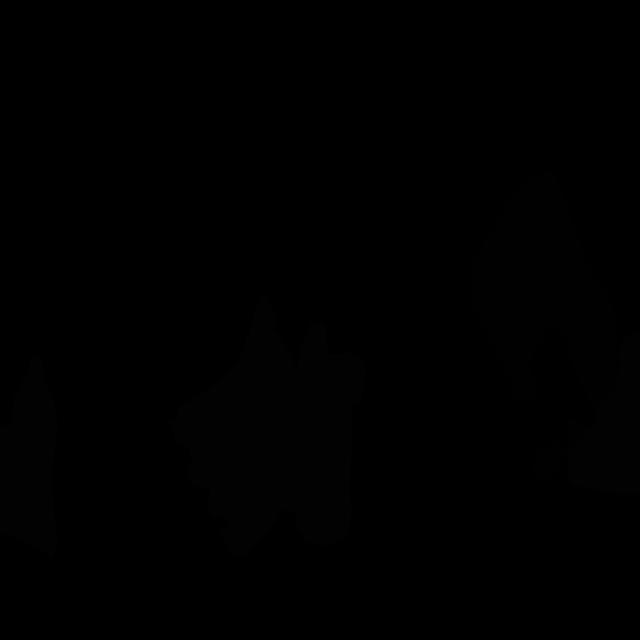cardboard: (169, 296, 328, 559), (283, 323, 366, 546), (0, 353, 58, 558), (568, 332, 640, 495)
rigid_plastic: (468, 170, 620, 415), (532, 416, 586, 485)
